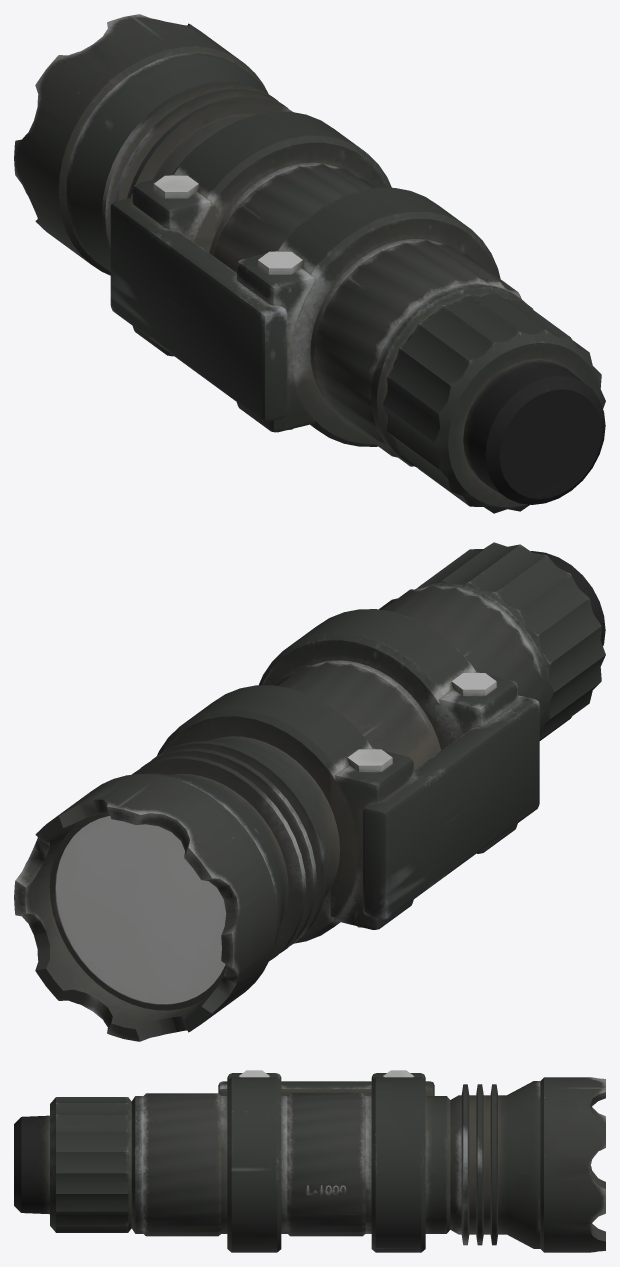
Rendered from lanterna_fuzil.glb.
3 renders of one model, top to bottom at view 1: azimuth 30°, elevation 25°; view 2: azimuth 150°, elevation 25°; view 3: azimuth 270°, elevation 25°, orthographic. The views are drawn at different scales.
Parts seen in each view (by area): view 1: lanterna_fuzil_corpo; view 2: lanterna_fuzil_corpo; view 3: lanterna_fuzil_corpo.
Part boxes in pixels (x1,y1,x2,y2): lanterna_fuzil_corpo: [14, 14, 605, 513]; lanterna_fuzil_corpo: [14, 542, 605, 1041]; lanterna_fuzil_corpo: [14, 1070, 605, 1252].
Size of the model in its own units: 0.0331 by 0.0292 by 0.0985.
Materials: 3 (1 with a texture image).
